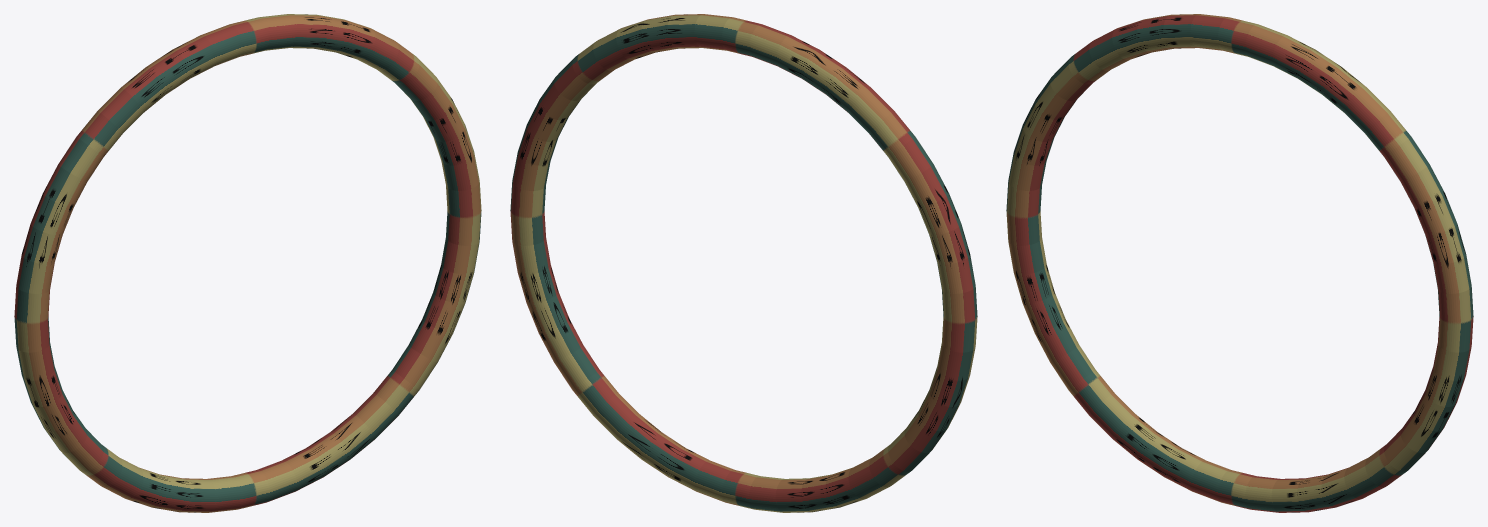
Rendered from texture_torus_R29_r0.glb.
The picture shows the model from 3 angles, left to right: view 1: azimuth 30°, elevation 25°; view 2: azimuth 150°, elevation 25°; view 3: azimuth 330°, elevation 25°; orthographic projection.
Visible parts, largest first — view 1: world; view 2: world; view 3: world.
Part boxes in pixels (bbox=[...]): world: bbox=[14, 14, 481, 512]; world: bbox=[510, 14, 977, 512]; world: bbox=[1006, 14, 1473, 512].
Size of the model in its own units: 31.33 by 31.27 by 2.
Materials: 1 (1 with a texture image).
